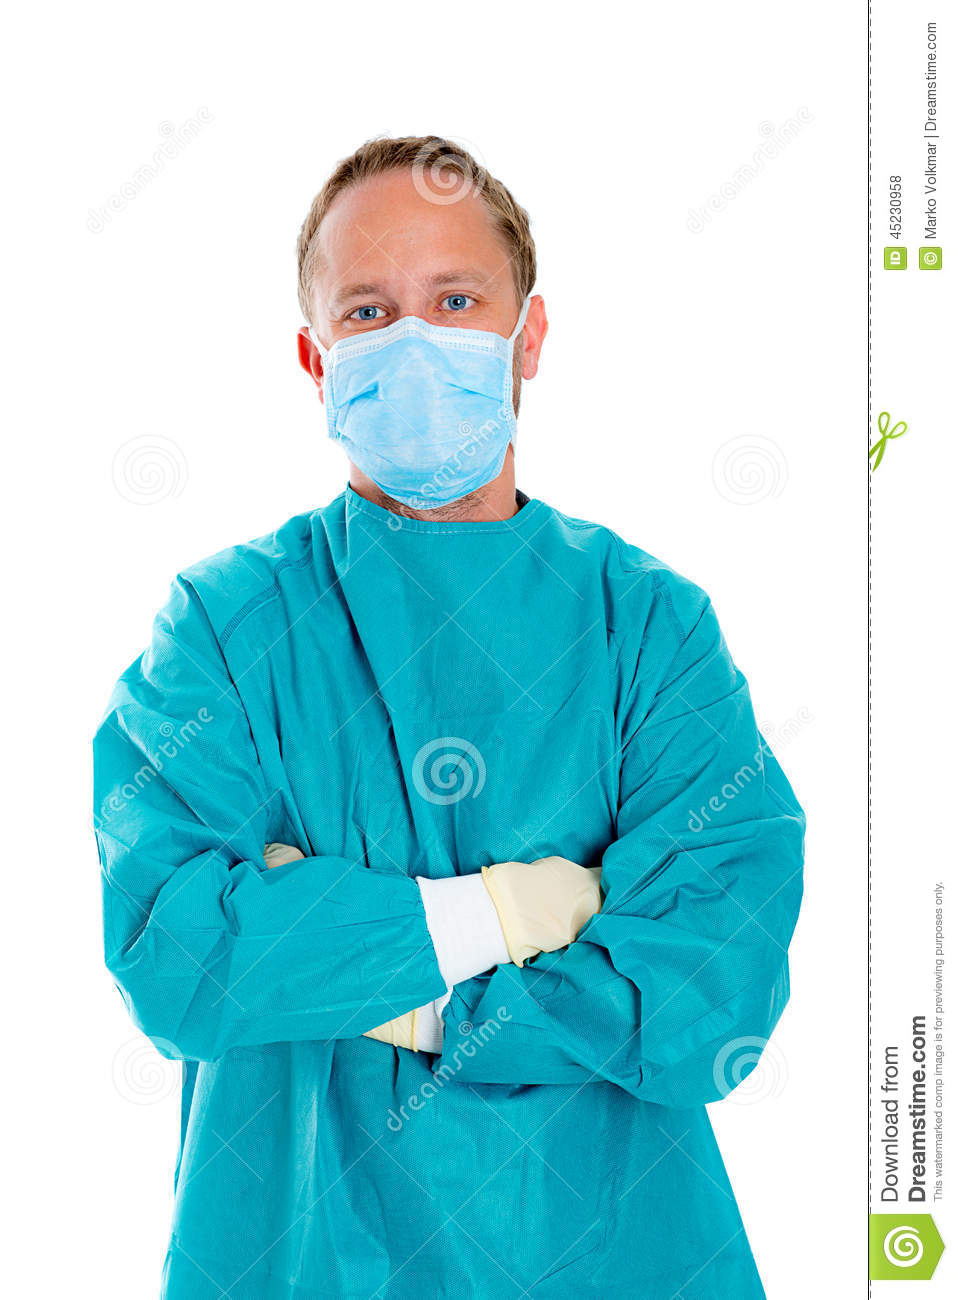mask: (317, 329, 535, 499)
